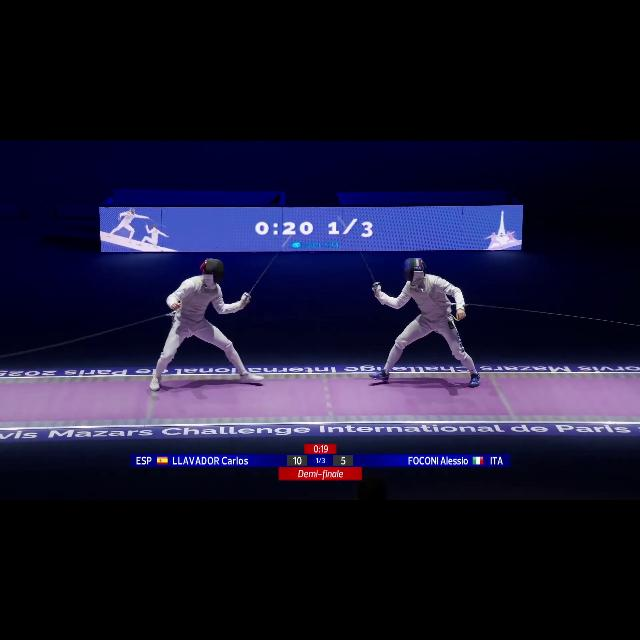blade: (334, 215, 386, 291), (243, 230, 297, 300)
